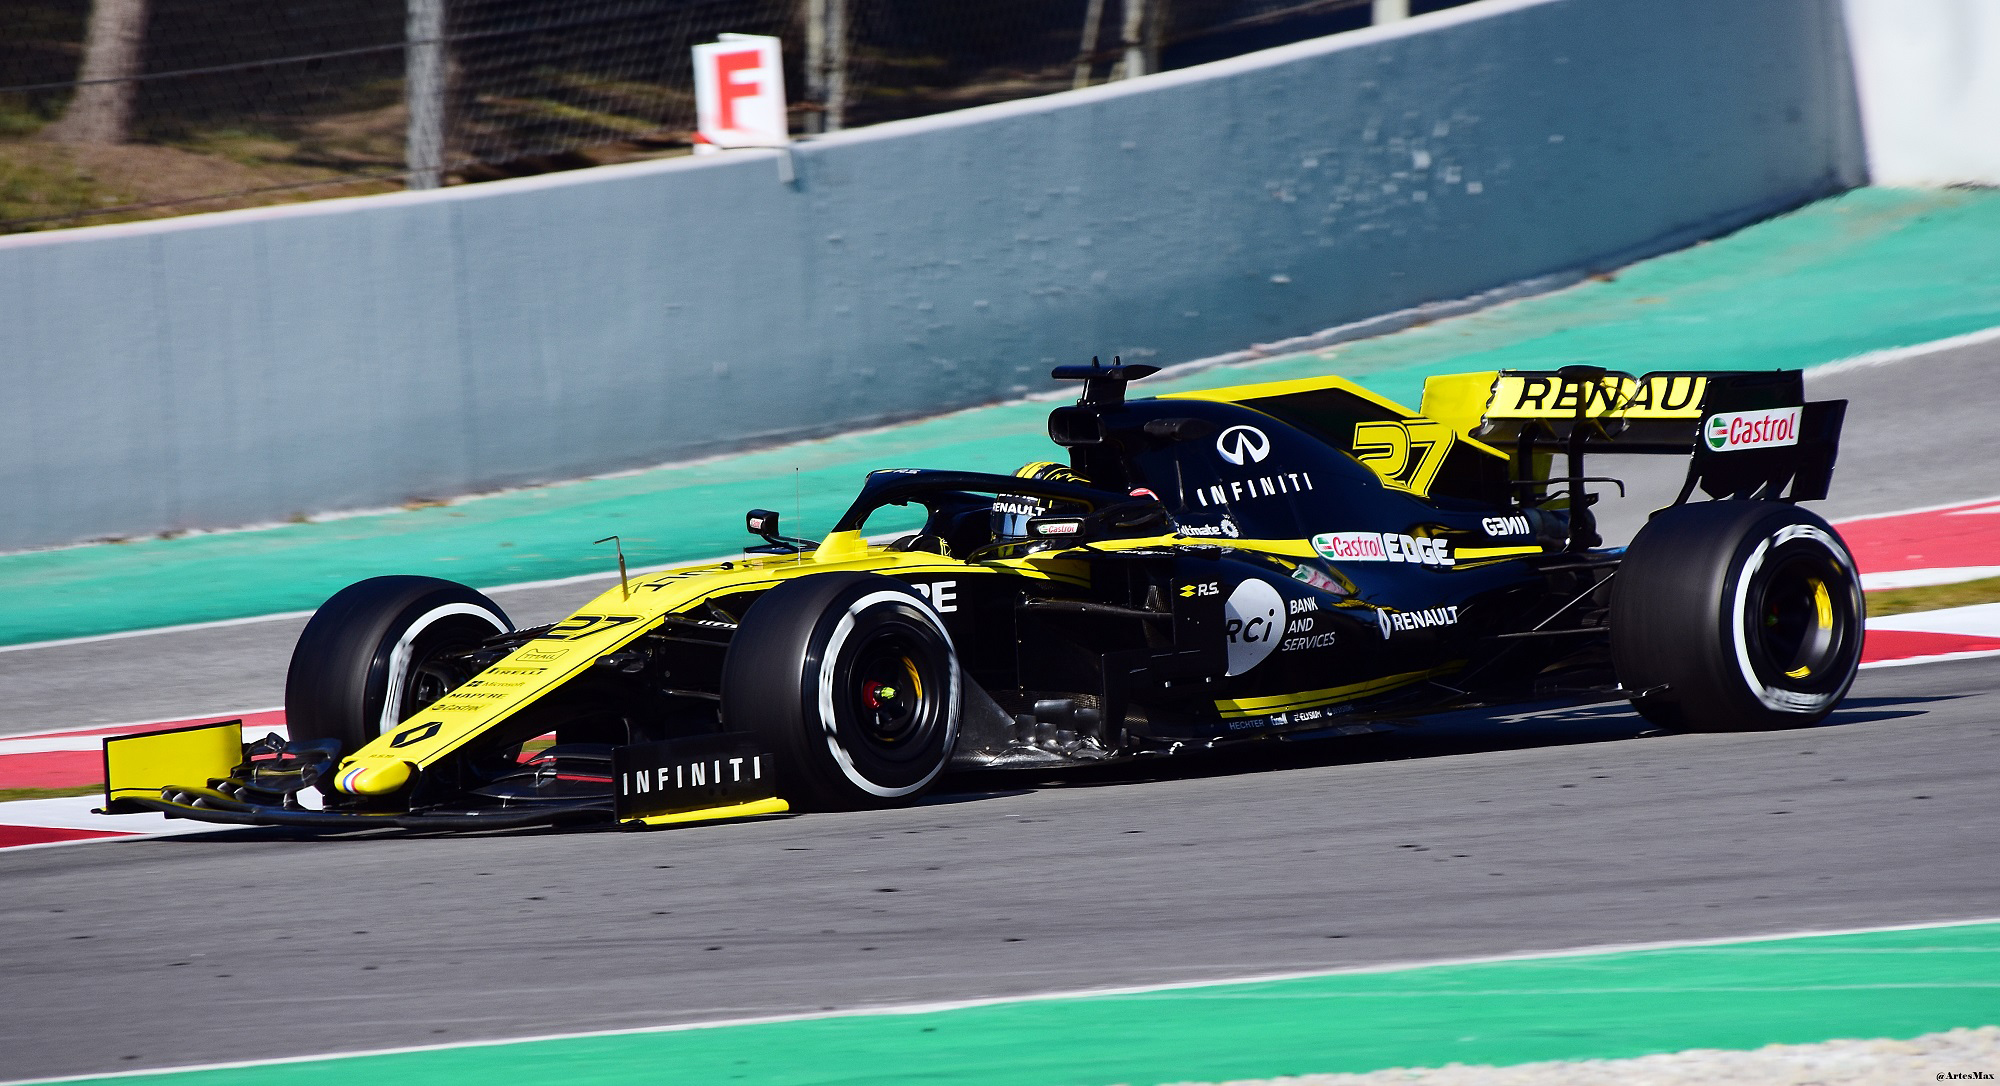F1 Car: (80, 338, 1868, 847)
